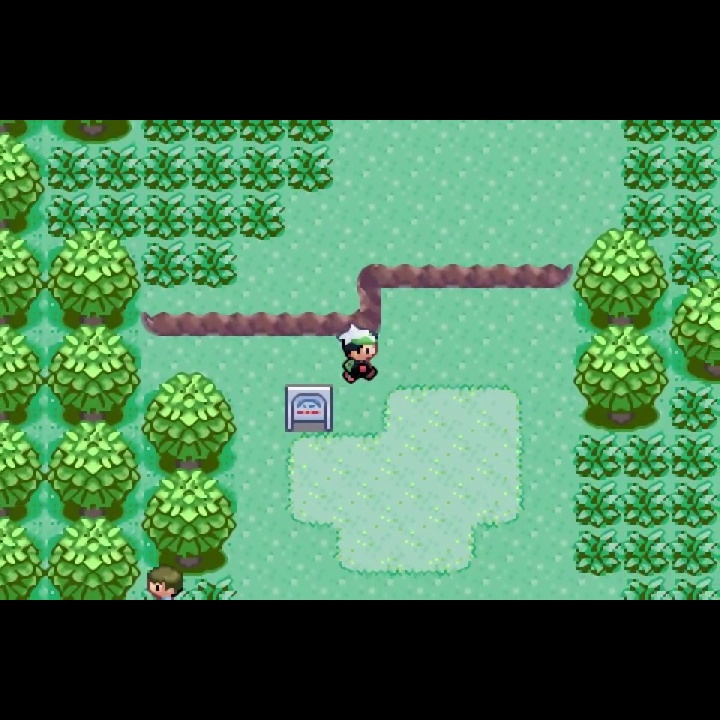grass: (670, 477, 720, 530), (237, 192, 288, 243), (667, 385, 720, 434), (666, 242, 720, 289), (141, 191, 191, 241), (621, 478, 670, 529), (669, 432, 720, 481), (46, 144, 94, 196), (621, 192, 671, 241), (670, 145, 720, 194), (44, 194, 93, 244), (189, 192, 238, 242), (622, 529, 673, 577), (236, 146, 287, 194), (573, 480, 622, 529), (189, 144, 238, 193), (572, 432, 622, 480), (285, 146, 335, 194), (573, 529, 622, 577), (671, 529, 720, 577), (622, 145, 670, 194), (94, 143, 142, 192), (94, 192, 142, 241), (141, 242, 191, 289), (671, 194, 720, 241), (190, 243, 240, 289), (622, 432, 669, 480), (142, 144, 190, 191), (188, 120, 240, 146), (669, 120, 720, 146), (236, 120, 287, 145), (189, 575, 239, 600), (671, 576, 720, 601), (141, 120, 190, 145), (288, 120, 334, 145), (622, 121, 671, 144), (622, 576, 670, 599)
npc: (333, 321, 382, 388), (145, 563, 187, 601)
wall: (143, 467, 240, 575), (141, 370, 239, 476), (574, 324, 668, 433), (573, 228, 670, 333), (45, 326, 143, 423), (45, 228, 142, 326), (45, 420, 144, 516), (48, 516, 144, 599), (670, 276, 720, 385), (1, 421, 46, 519), (1, 229, 46, 327), (1, 326, 46, 422), (1, 135, 45, 230), (1, 516, 48, 600), (46, 120, 141, 144), (1, 119, 45, 144)
